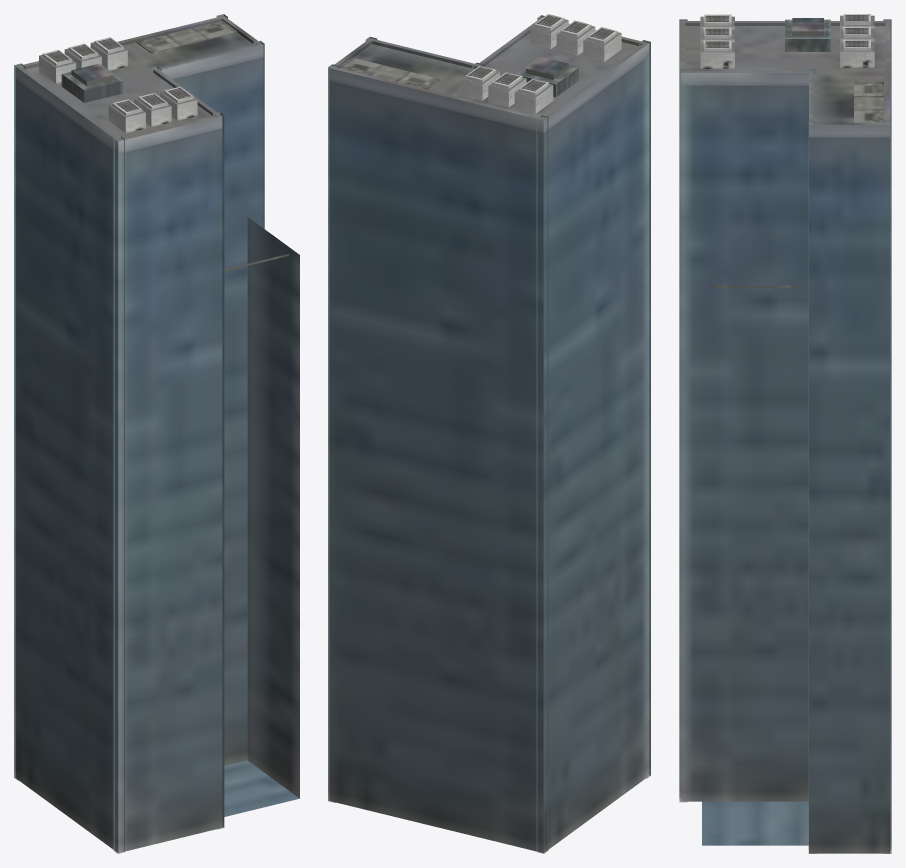
The picture shows the model from 3 angles, left to right: view 1: azimuth 30°, elevation 25°; view 2: azimuth 150°, elevation 25°; view 3: azimuth 270°, elevation 25°; orthographic projection. The views are drawn at different scales.
Bounding box in the file's own units: 0.3845 × 1.27 × 0.3291.
Materials: 1 (1 with a texture image).
